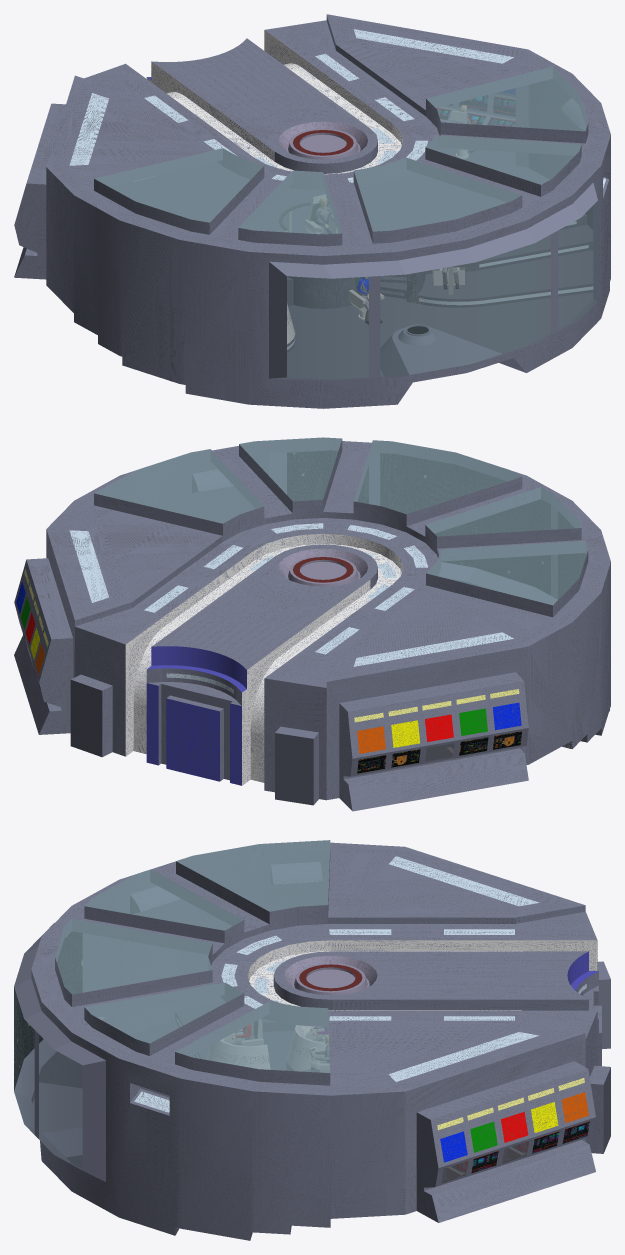
3 renders of one model, top to bottom at view 1: azimuth 30°, elevation 25°; view 2: azimuth 150°, elevation 25°; view 3: azimuth 270°, elevation 25°, orthographic. The views are drawn at different scales.
Visible parts, largest first — view 1: SketchUp (×24); view 2: SketchUp (×32); view 3: SketchUp (×32).
Part boxes in pixels (bbox=[...]): SketchUp (×24): bbox=[14, 14, 610, 408]; SketchUp (×32): bbox=[14, 437, 610, 811]; SketchUp (×32): bbox=[14, 840, 610, 1240].
Bounding box in the file's own units: 714 × 689 × 218.
